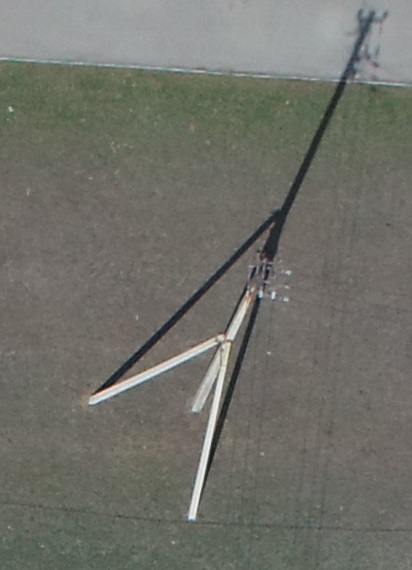opora: (80, 204, 293, 526)
